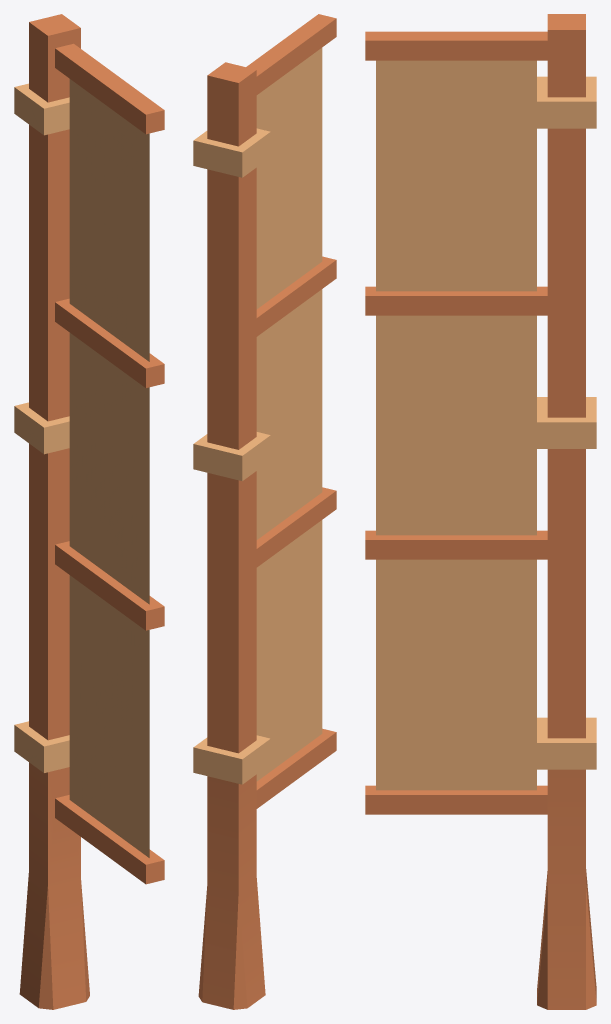
The model's file is blade.obj.
The picture shows the model from 3 angles, left to right: view 1: azimuth 30°, elevation 25°; view 2: azimuth 150°, elevation 25°; view 3: azimuth 270°, elevation 25°; orthographic projection. The views are drawn at different scales.
Parts seen in each view (by area): view 1: blade; view 2: blade; view 3: blade.
Boxes of the visible parts, x1,y1,x2,y2 form: blade: [14, 14, 164, 1009]; blade: [193, 14, 336, 1009]; blade: [365, 14, 596, 1009].
Size of the model in its own units: 0.111 by 2 by 0.4304.
